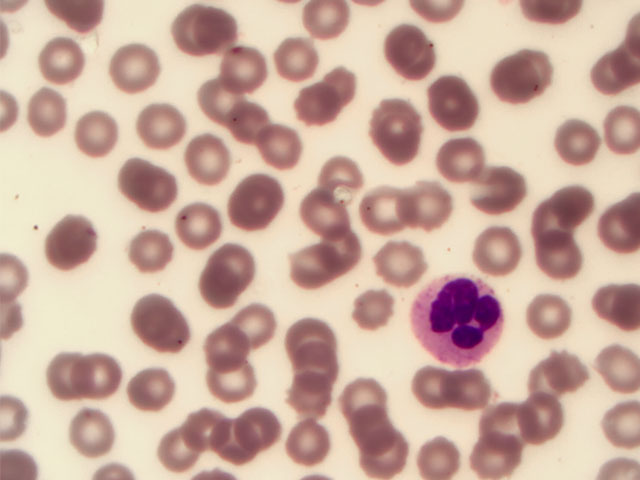RBC: (35, 35, 88, 83), (24, 87, 77, 135), (73, 109, 126, 157), (110, 43, 163, 91), (161, 3, 214, 51), (189, 5, 242, 53), (217, 42, 270, 90), (195, 74, 248, 122), (218, 95, 271, 143), (249, 123, 302, 171), (180, 135, 233, 183), (137, 100, 190, 148), (135, 98, 188, 146), (111, 148, 164, 196), (136, 169, 189, 217), (36, 215, 89, 263), (124, 226, 177, 274), (169, 204, 222, 252), (216, 182, 269, 230), (305, 191, 358, 239), (310, 158, 363, 206), (293, 83, 346, 131), (307, 65, 360, 113), (273, 36, 326, 84), (297, 1, 350, 49), (386, 25, 439, 73), (365, 102, 418, 150), (432, 71, 485, 119), (490, 55, 543, 103), (509, 42, 562, 90), (553, 115, 606, 163), (477, 165, 530, 213), (433, 138, 486, 186), (406, 181, 459, 229), (356, 188, 409, 236), (370, 240, 423, 288), (287, 241, 340, 289), (310, 228, 363, 276), (211, 236, 264, 284), (194, 263, 247, 311), (128, 298, 181, 346), (84, 352, 137, 400), (45, 353, 98, 401), (128, 360, 181, 408), (72, 407, 125, 455), (155, 427, 208, 475), (185, 402, 238, 450), (204, 422, 257, 470), (234, 407, 287, 455), (214, 366, 267, 414), (206, 324, 259, 372), (221, 306, 274, 354), (283, 312, 336, 360), (288, 338, 341, 386), (284, 367, 337, 415), (287, 415, 340, 463), (338, 367, 391, 415), (343, 405, 396, 453), (351, 422, 404, 470), (348, 285, 401, 333), (399, 365, 452, 413), (433, 366, 486, 414), (465, 394, 518, 442), (475, 432, 528, 480), (512, 400, 565, 448), (424, 432, 477, 480), (531, 354, 584, 402), (529, 288, 582, 336), (540, 235, 593, 283), (538, 203, 591, 251), (548, 179, 601, 227), (480, 226, 533, 274), (587, 346, 640, 394), (587, 399, 640, 447), (587, 284, 640, 332), (587, 49, 640, 97)
WBC: (409, 276, 507, 364)
